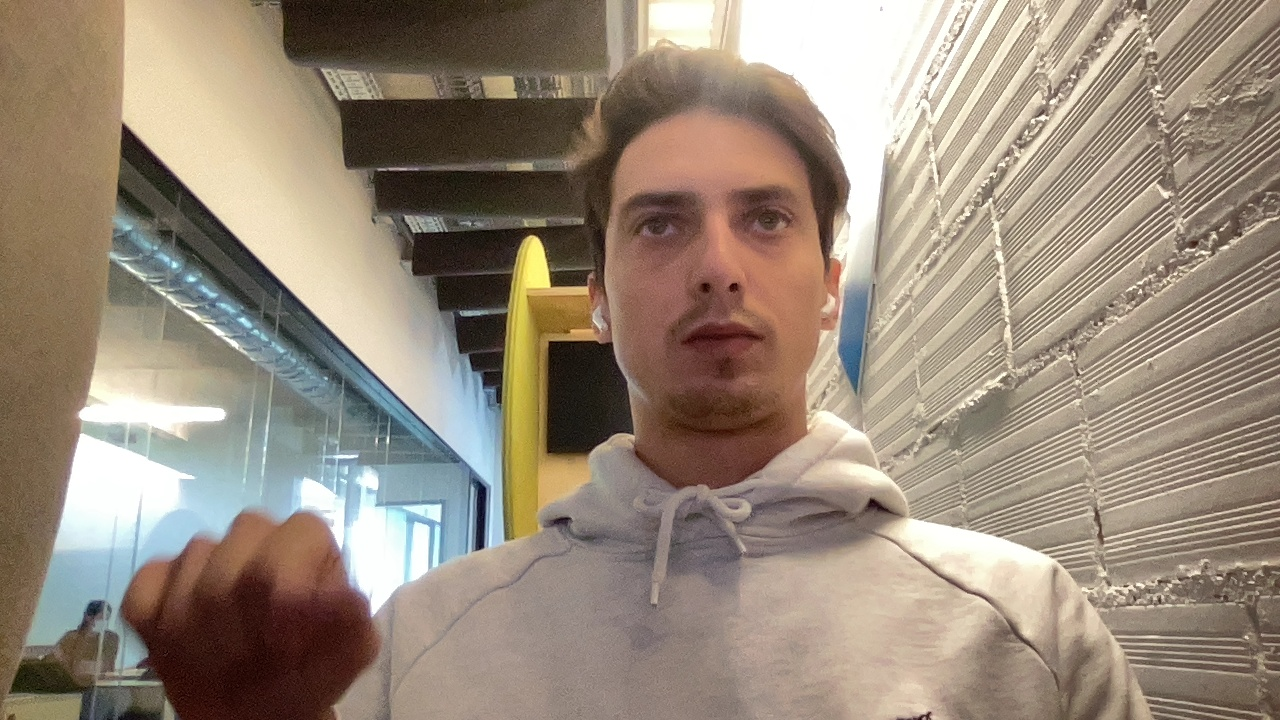yes: (105, 499, 394, 712)
